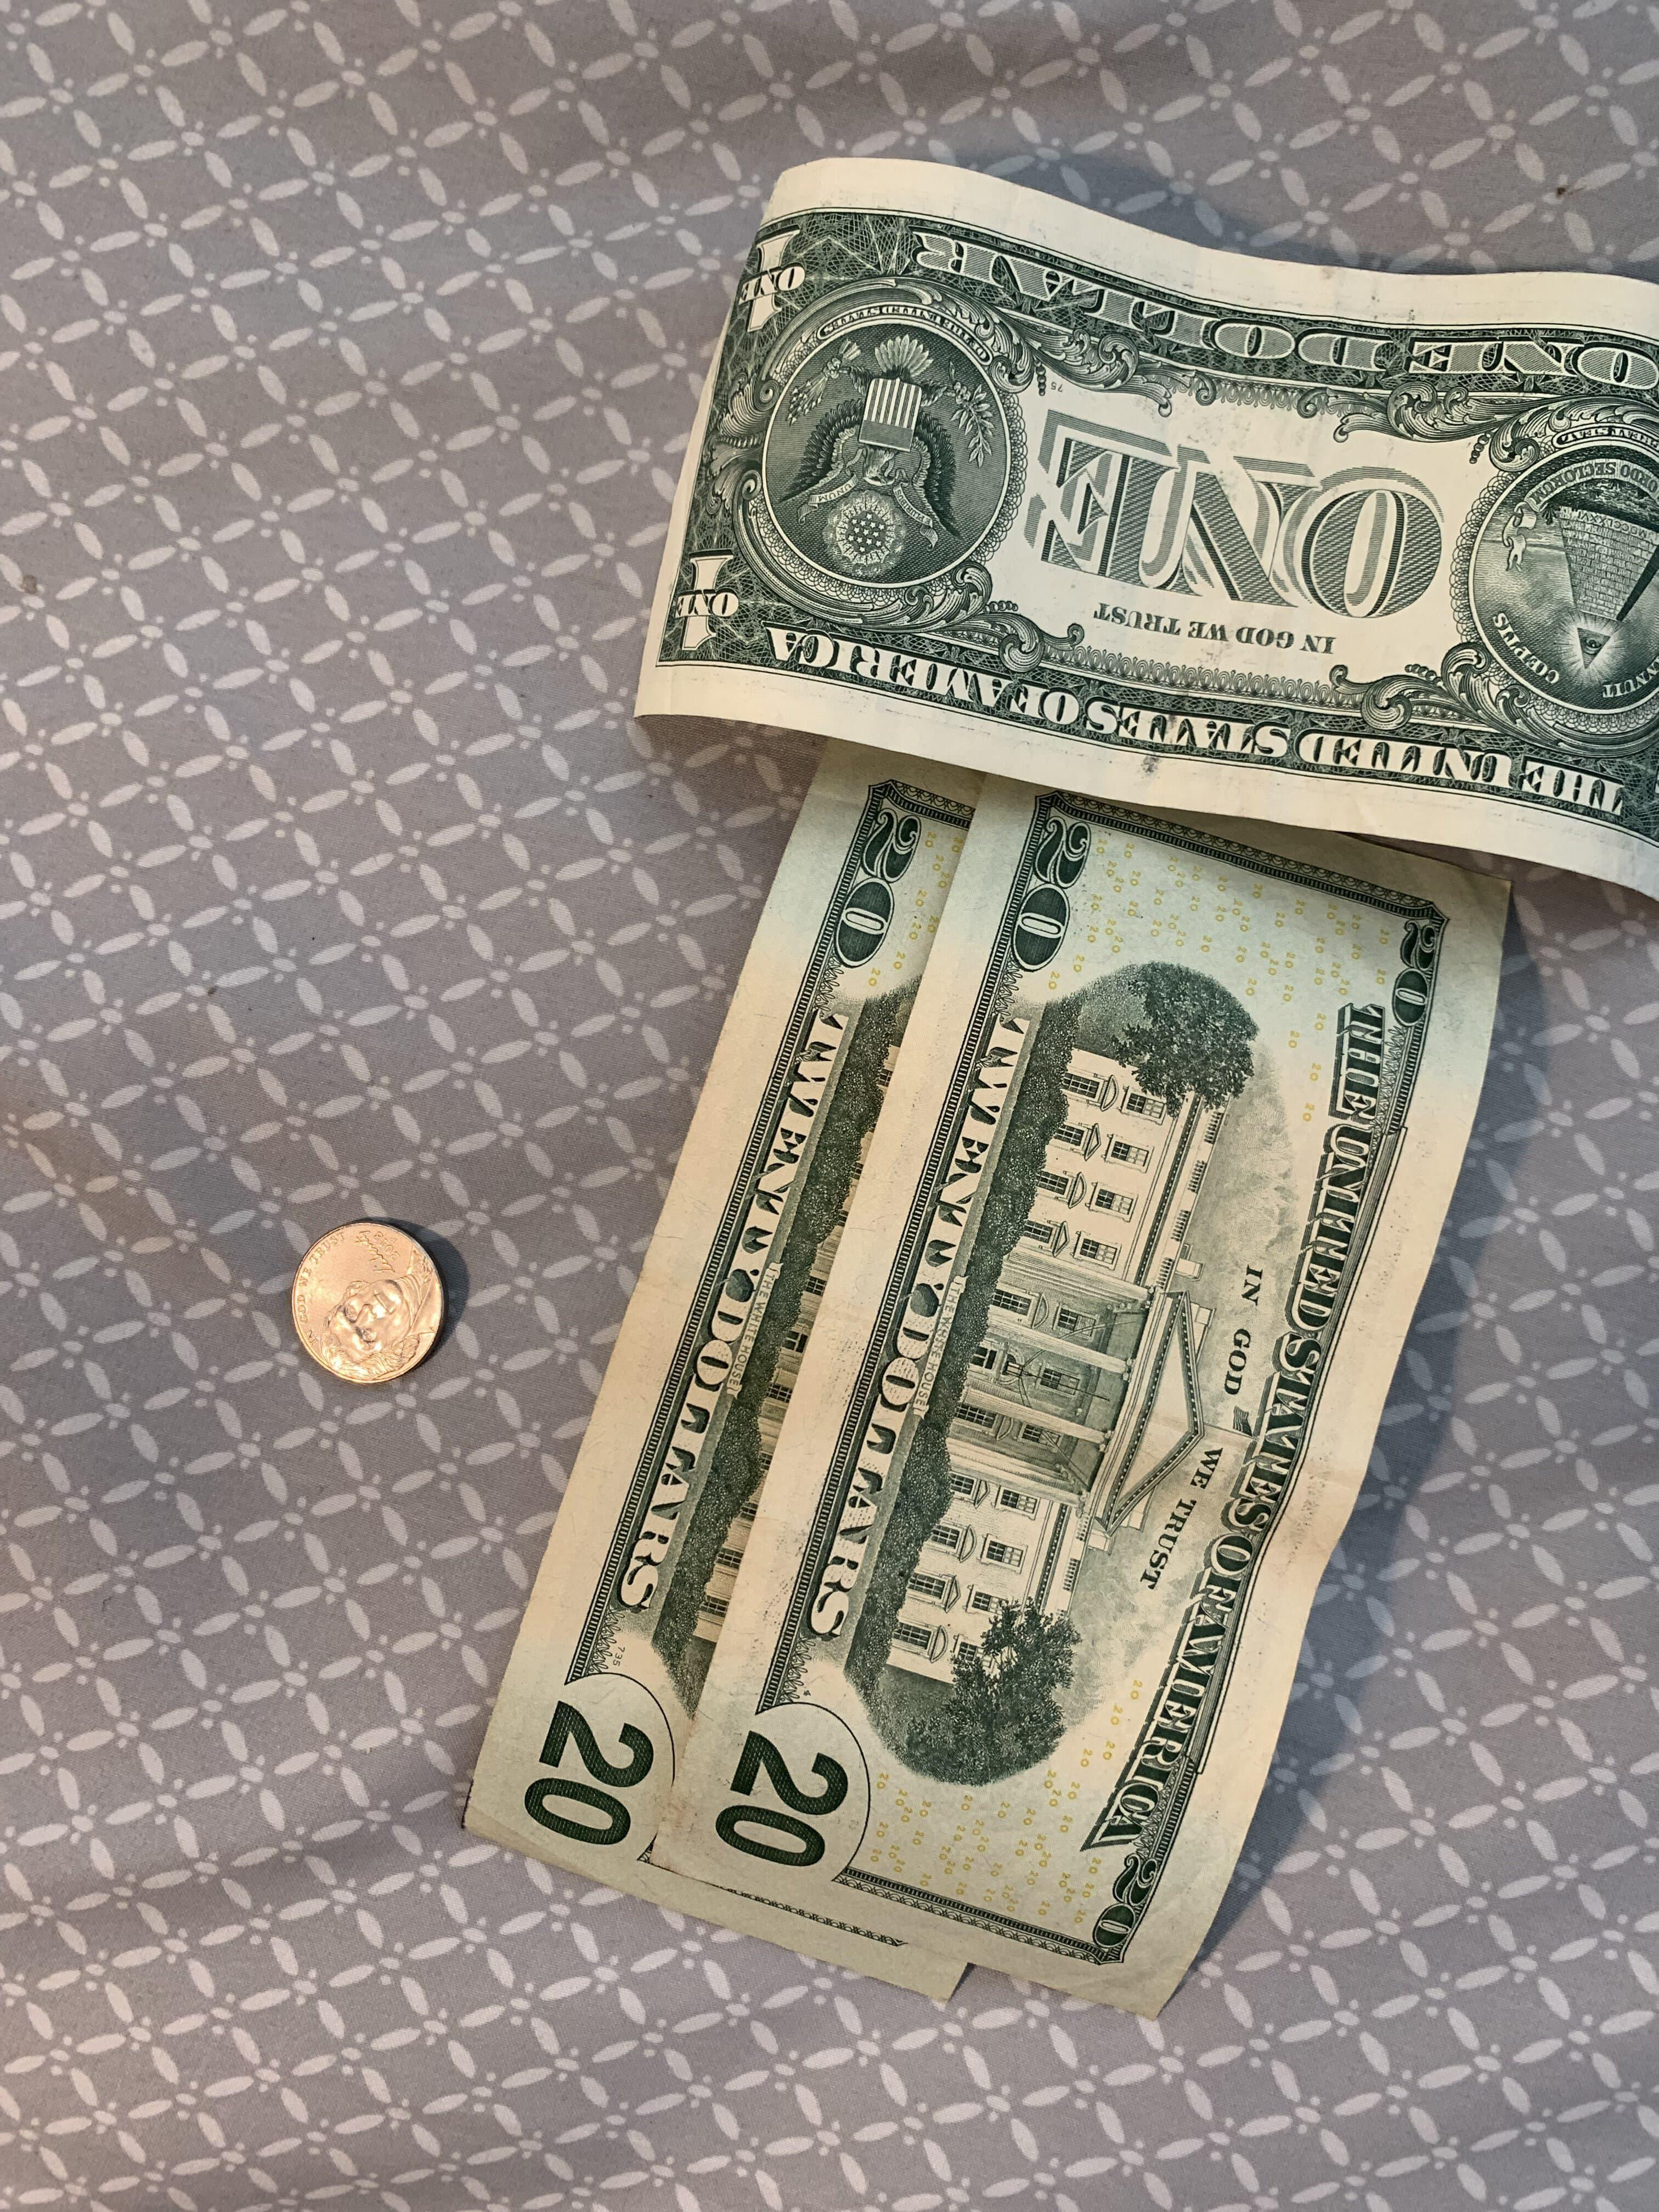Nickel: (270, 1207, 467, 1400)
OneBill: (570, 143, 1659, 920)
TwentyBill: (647, 765, 1544, 2017), (434, 726, 1248, 2017)
